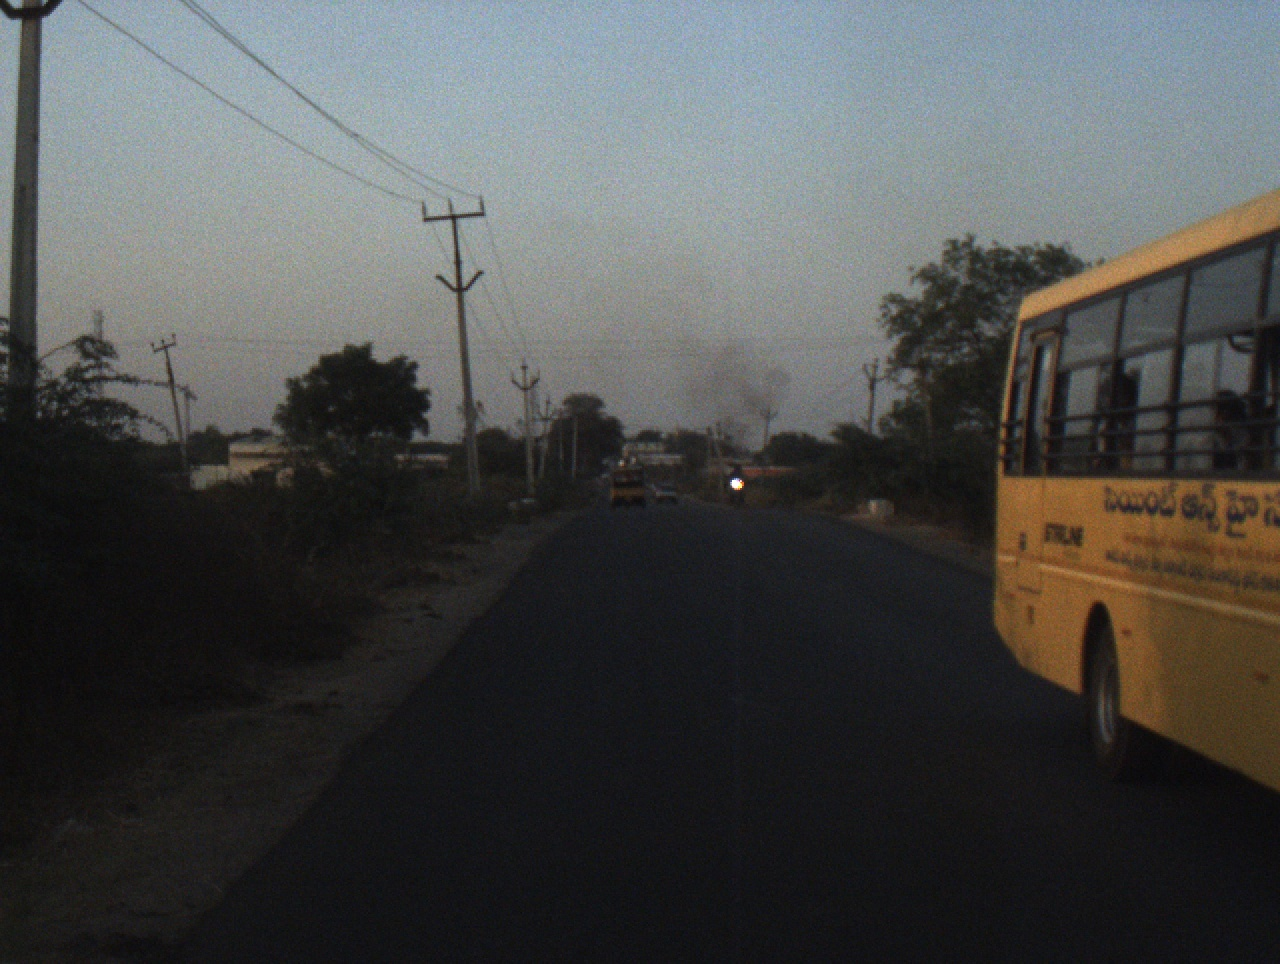autorickshaw: (608, 467, 650, 510)
bus: (980, 190, 1278, 804)
car: (655, 480, 678, 507)
motorcycle: (729, 477, 747, 503)
rider: (726, 461, 747, 497)
